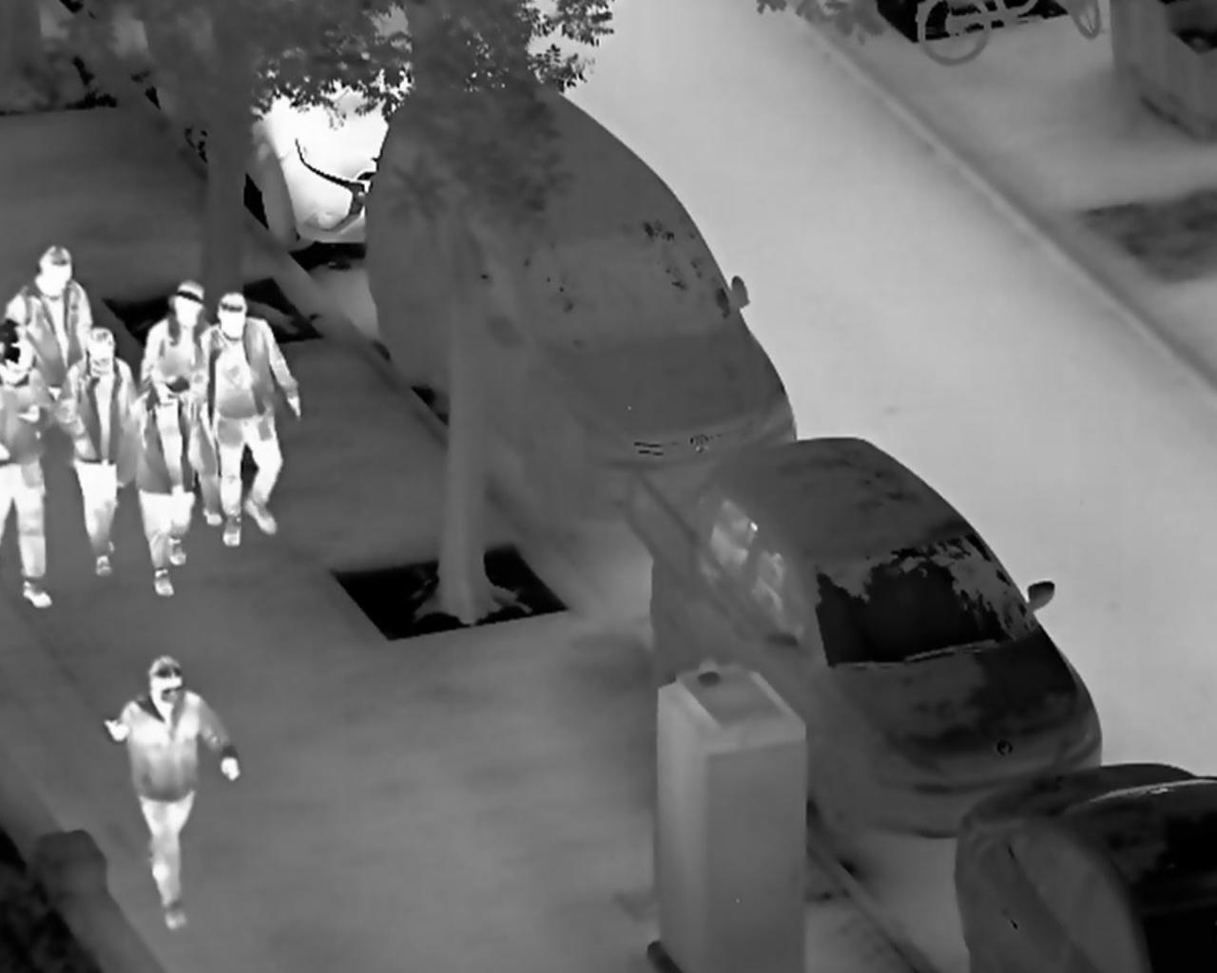person: (100, 656, 243, 931), (198, 287, 302, 551), (54, 327, 140, 581), (122, 356, 202, 602), (5, 244, 100, 433), (140, 278, 208, 506), (2, 337, 54, 613)
